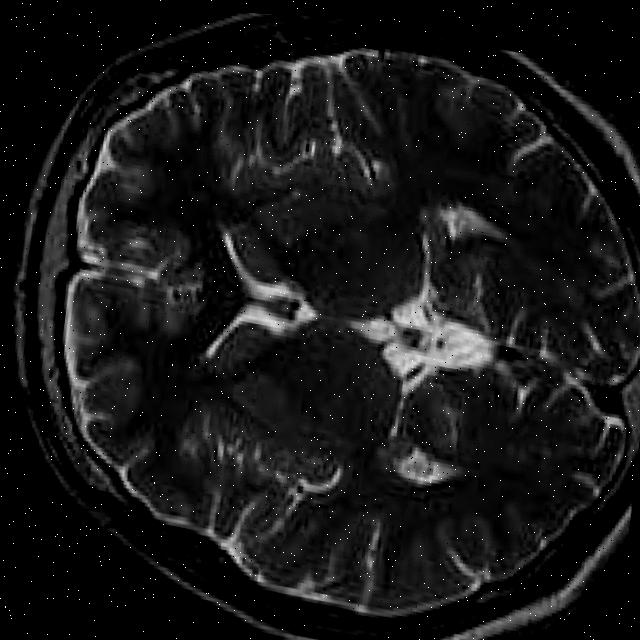NoTumor: (12, 1, 640, 640)
